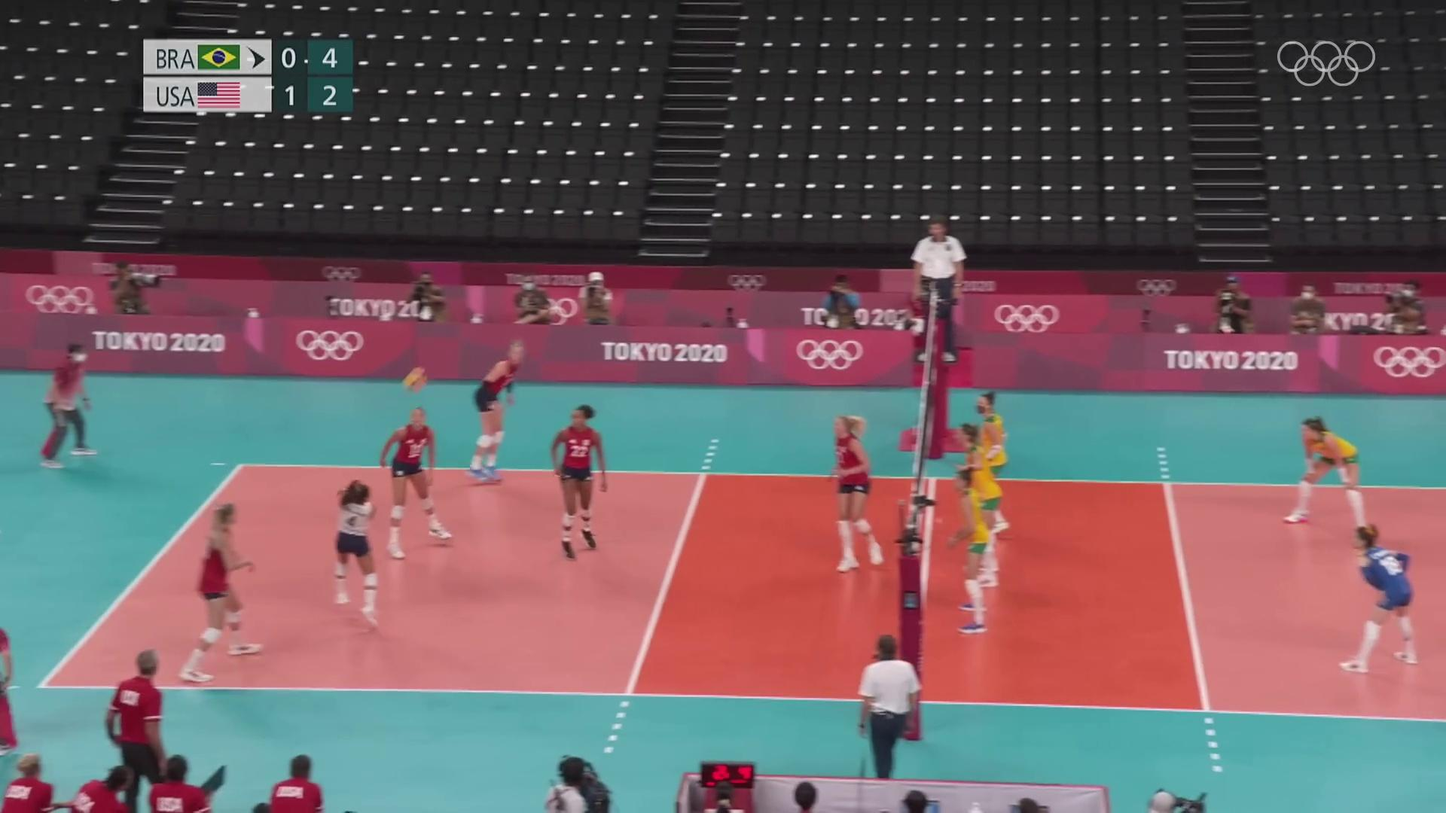player: (177, 501, 264, 678), (1343, 529, 1419, 670), (383, 407, 452, 558), (550, 403, 608, 558), (828, 414, 882, 575), (1289, 420, 1367, 528), (466, 343, 525, 483), (330, 481, 382, 630), (953, 425, 999, 588), (946, 469, 990, 637), (973, 388, 1011, 535)
refree: (853, 638, 922, 787), (908, 220, 967, 364), (39, 344, 98, 464)
